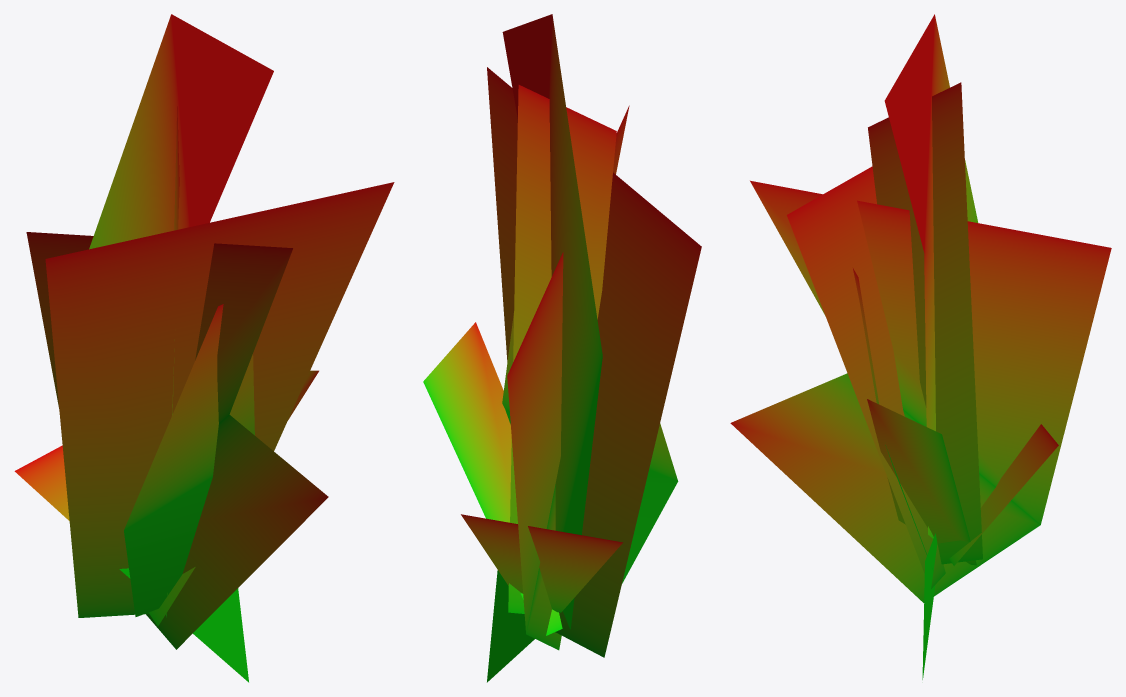
Rendered from Desert Grass_LOD1_Var2_scvhd.fbx.
The picture shows the model from 3 angles, left to right: view 1: azimuth 30°, elevation 25°; view 2: azimuth 150°, elevation 25°; view 3: azimuth 270°, elevation 25°; orthographic projection. The views are drawn at different scales.
Parts seen in each view (by area): view 1: _3e28_Var2_LOD1; view 2: _3e28_Var2_LOD1; view 3: _3e28_Var2_LOD1.
Part boxes in pixels (<box>): _3e28_Var2_LOD1: <box>14,14,394,682</box>; _3e28_Var2_LOD1: <box>423,14,701,682</box>; _3e28_Var2_LOD1: <box>730,14,1111,679</box>.
Size of the model in its own units: 17.34 by 40.26 by 21.87.
